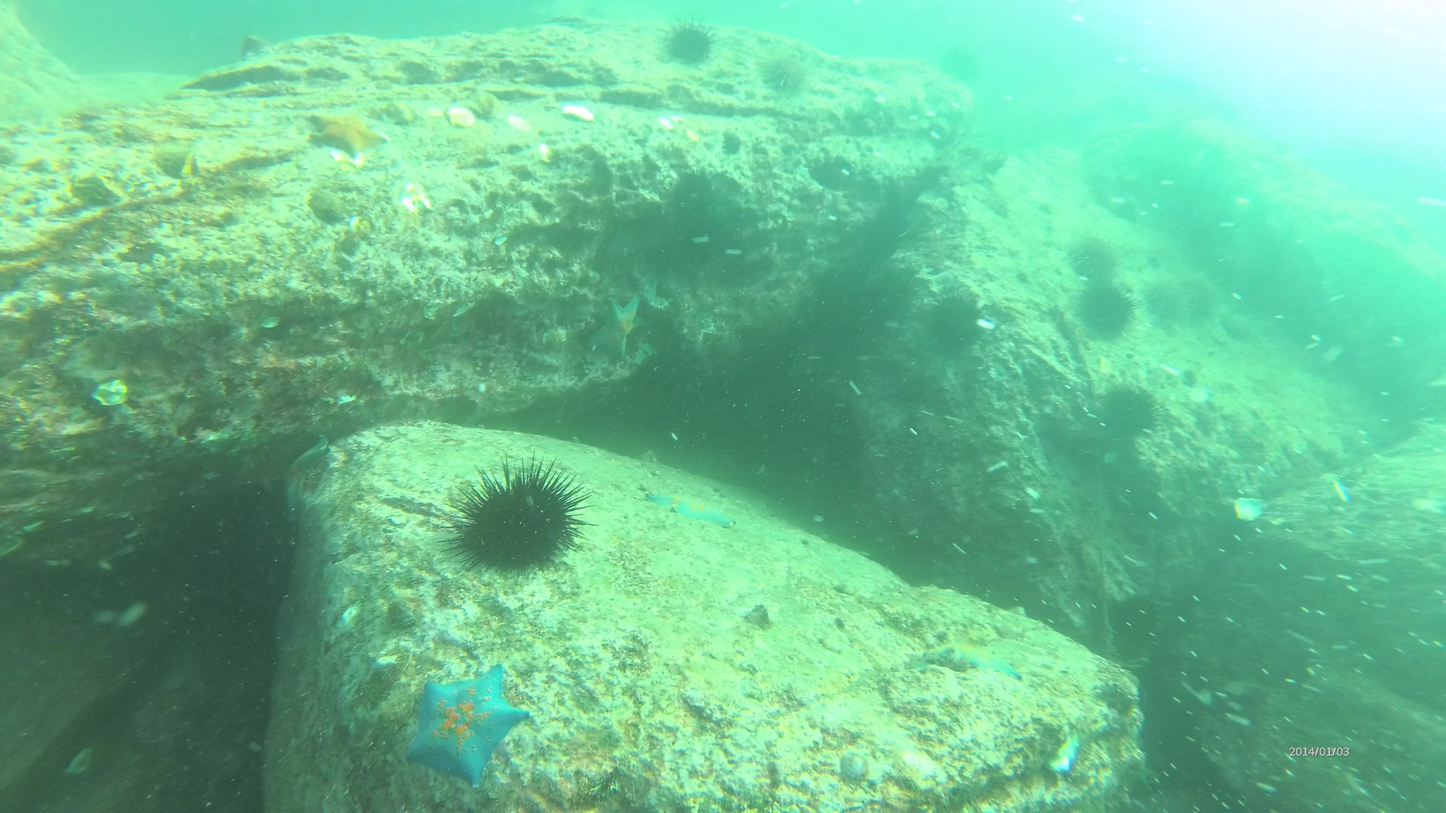holothurian: (401, 662, 524, 779), (930, 634, 1026, 685), (645, 483, 736, 534), (312, 105, 385, 164)
starfish: (433, 460, 598, 580), (925, 285, 995, 347), (1072, 277, 1135, 336), (1102, 376, 1160, 435), (764, 46, 814, 95), (1071, 233, 1119, 284), (664, 21, 720, 61), (1150, 280, 1187, 323), (1175, 280, 1208, 316)
